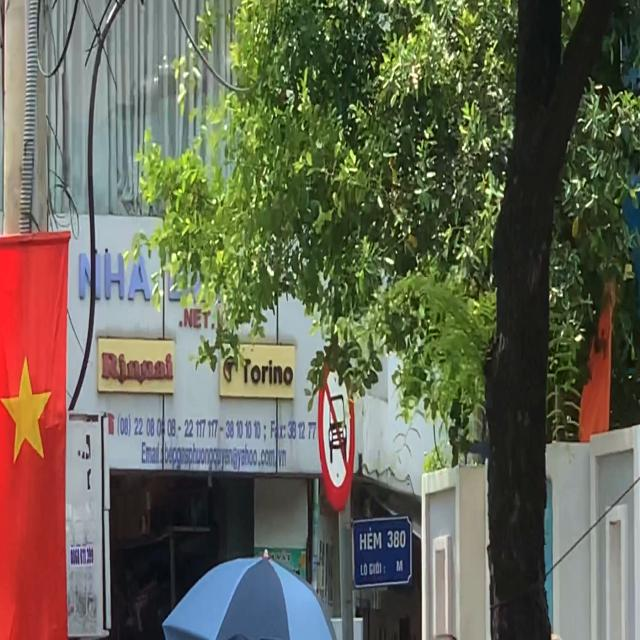Cam con lai: (321, 364, 357, 506)
